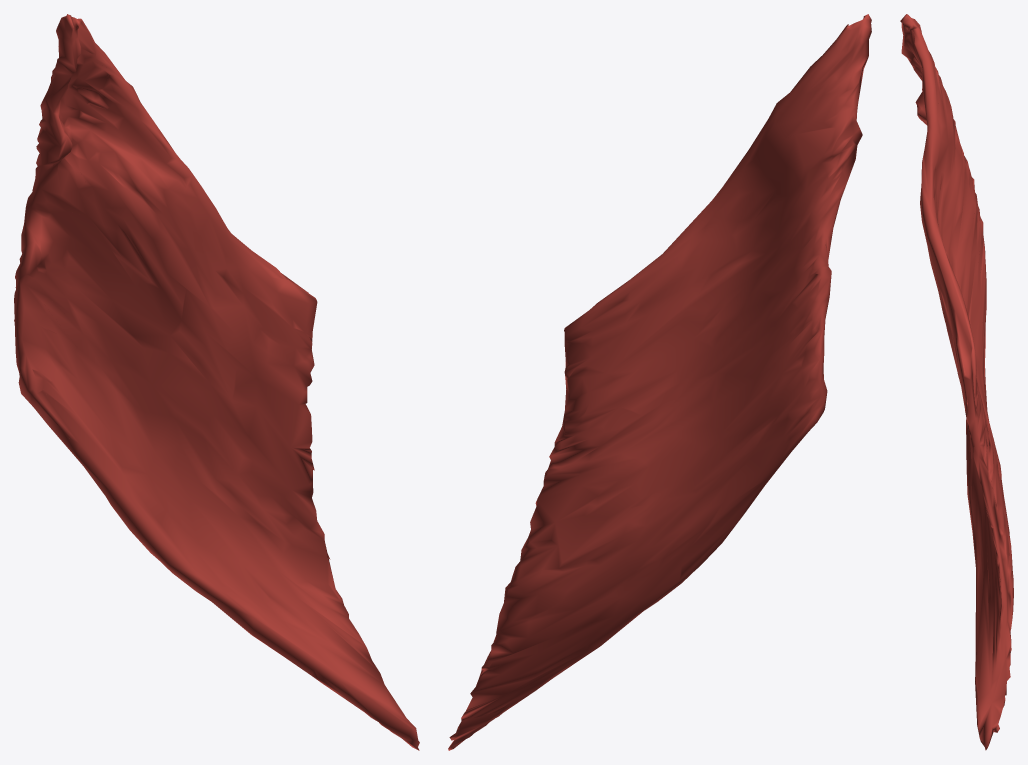
File: musculos-rhomboid-major-muscle-l.glb
The picture shows the model from 3 angles, left to right: view 1: azimuth 30°, elevation 25°; view 2: azimuth 150°, elevation 25°; view 3: azimuth 270°, elevation 25°; orthographic projection. The views are drawn at different scales.
Visible parts, largest first — view 1: Rhomboid major muscle.l; view 2: Rhomboid major muscle.l; view 3: Rhomboid major muscle.l.
Boxes of the visible parts, bbox=[...] form: Rhomboid major muscle.l: bbox=[14, 14, 419, 750]; Rhomboid major muscle.l: bbox=[448, 14, 871, 750]; Rhomboid major muscle.l: bbox=[900, 14, 1013, 750].
Size of the model in its own units: 0.0885 by 0.1801 by 0.0309.
